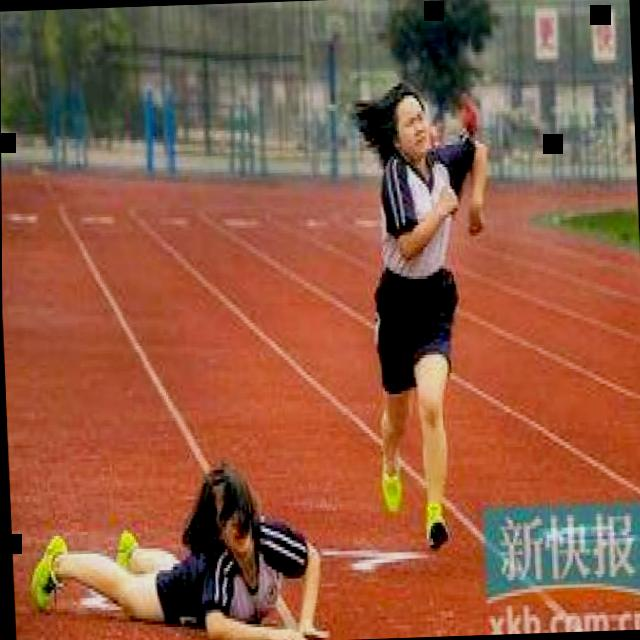Fall-Detected: (9, 436, 345, 640)
